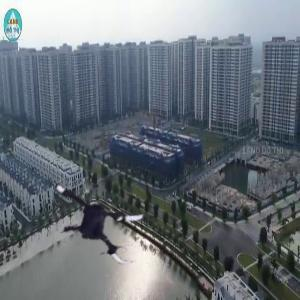drone: (48, 163, 161, 276)
